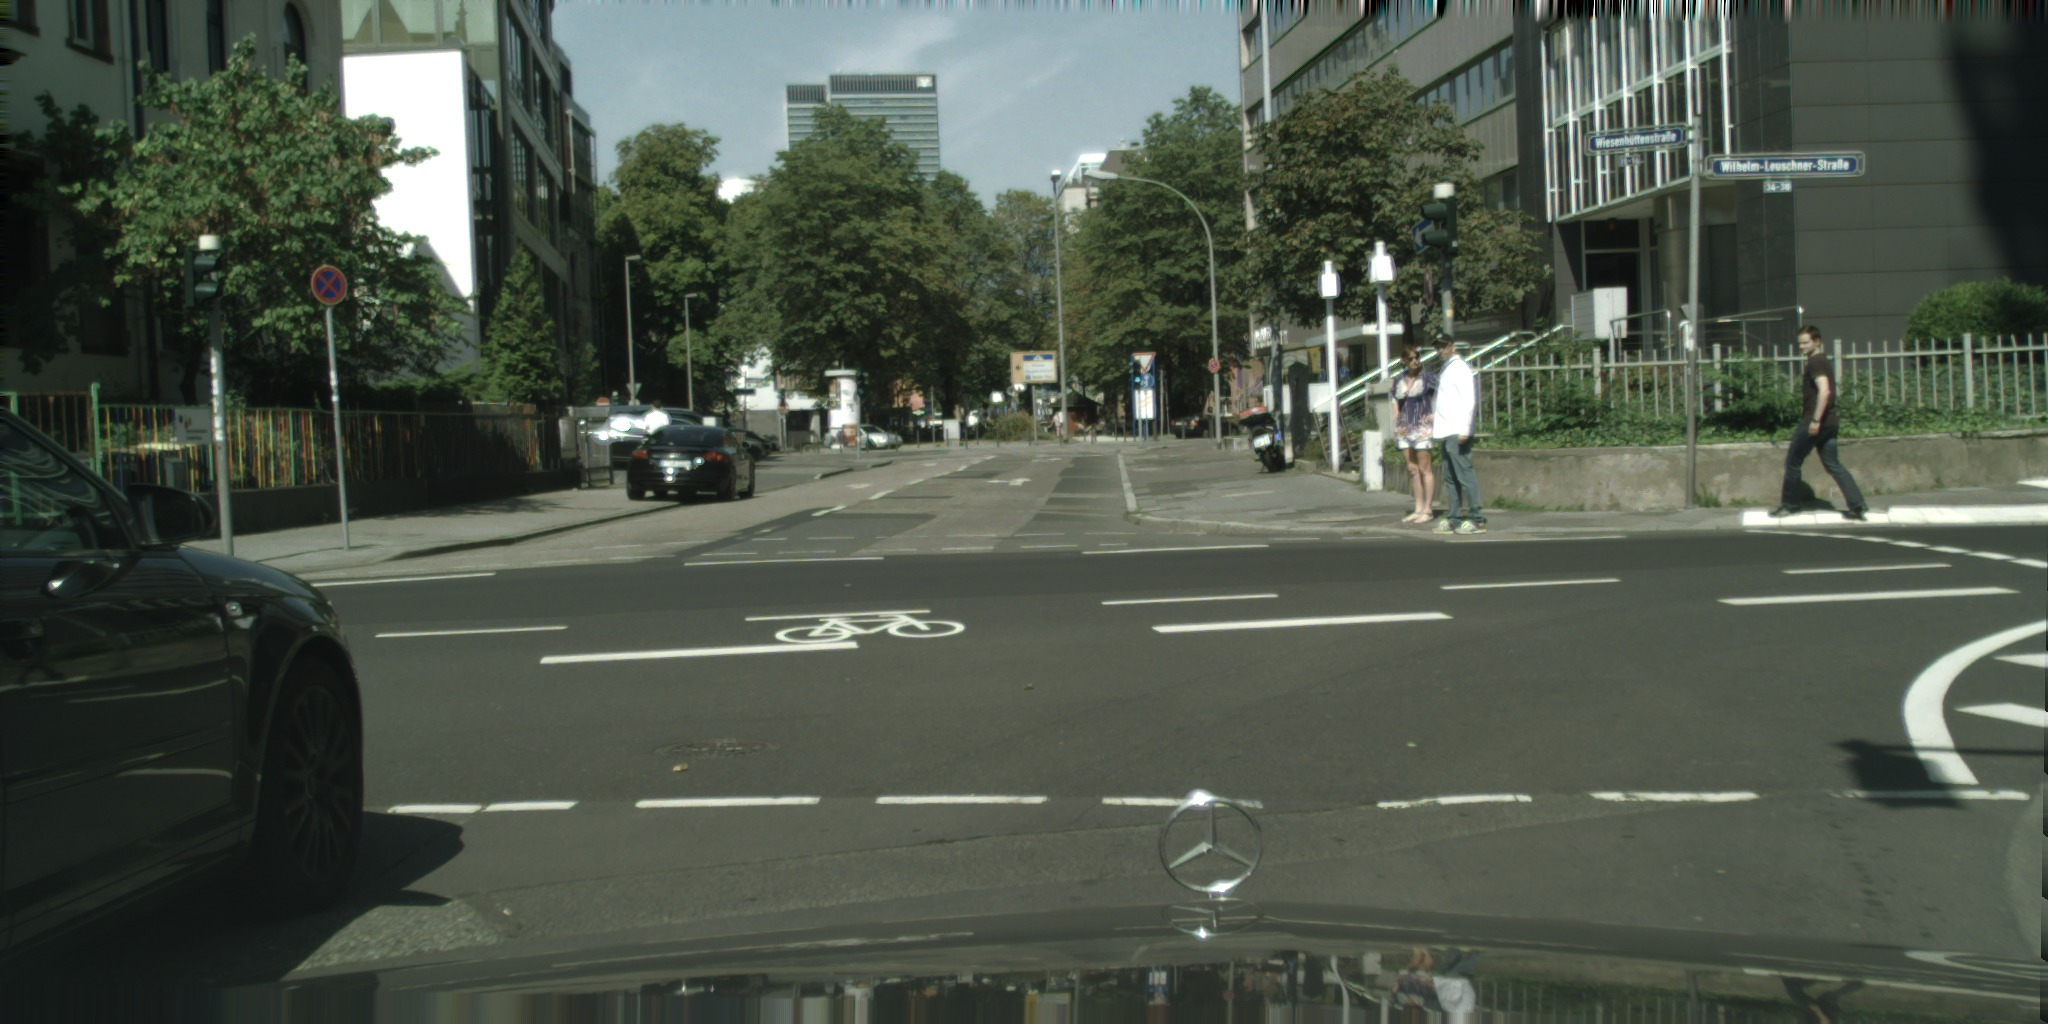car: (0, 400, 364, 967), (626, 425, 755, 500), (578, 405, 688, 462), (653, 407, 772, 454), (667, 415, 766, 461), (822, 424, 903, 449), (1171, 414, 1239, 438), (964, 410, 983, 429)
motorcycle: (1239, 406, 1285, 473)
person: (1769, 325, 1869, 517), (1429, 332, 1488, 535), (1390, 344, 1438, 524), (643, 399, 670, 441), (977, 402, 989, 436), (1050, 412, 1061, 436), (1057, 406, 1065, 436)
